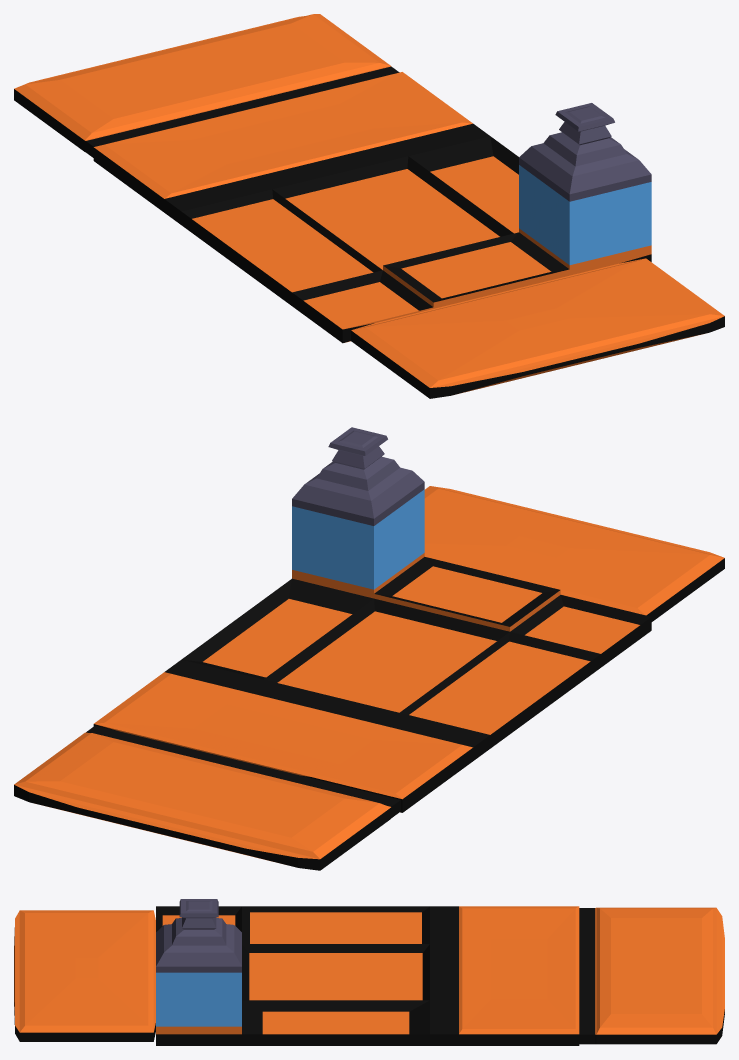
The model's file is inventorytundra.fbx.
3 renders of one model, top to bottom at view 1: azimuth 30°, elevation 25°; view 2: azimuth 150°, elevation 25°; view 3: azimuth 270°, elevation 25°, orthographic. The views are drawn at different scales.
Visible parts, largest first — view 1: Cube.001; view 2: Cube.001; view 3: Cube.001.
Part boxes in pixels (x1,y1,x2,y2): Cube.001: (14,14,724,398); Cube.001: (14,427,724,870); Cube.001: (14,899,724,1045).
Size of the model in its own units: 200 by 90.02 by 469.
